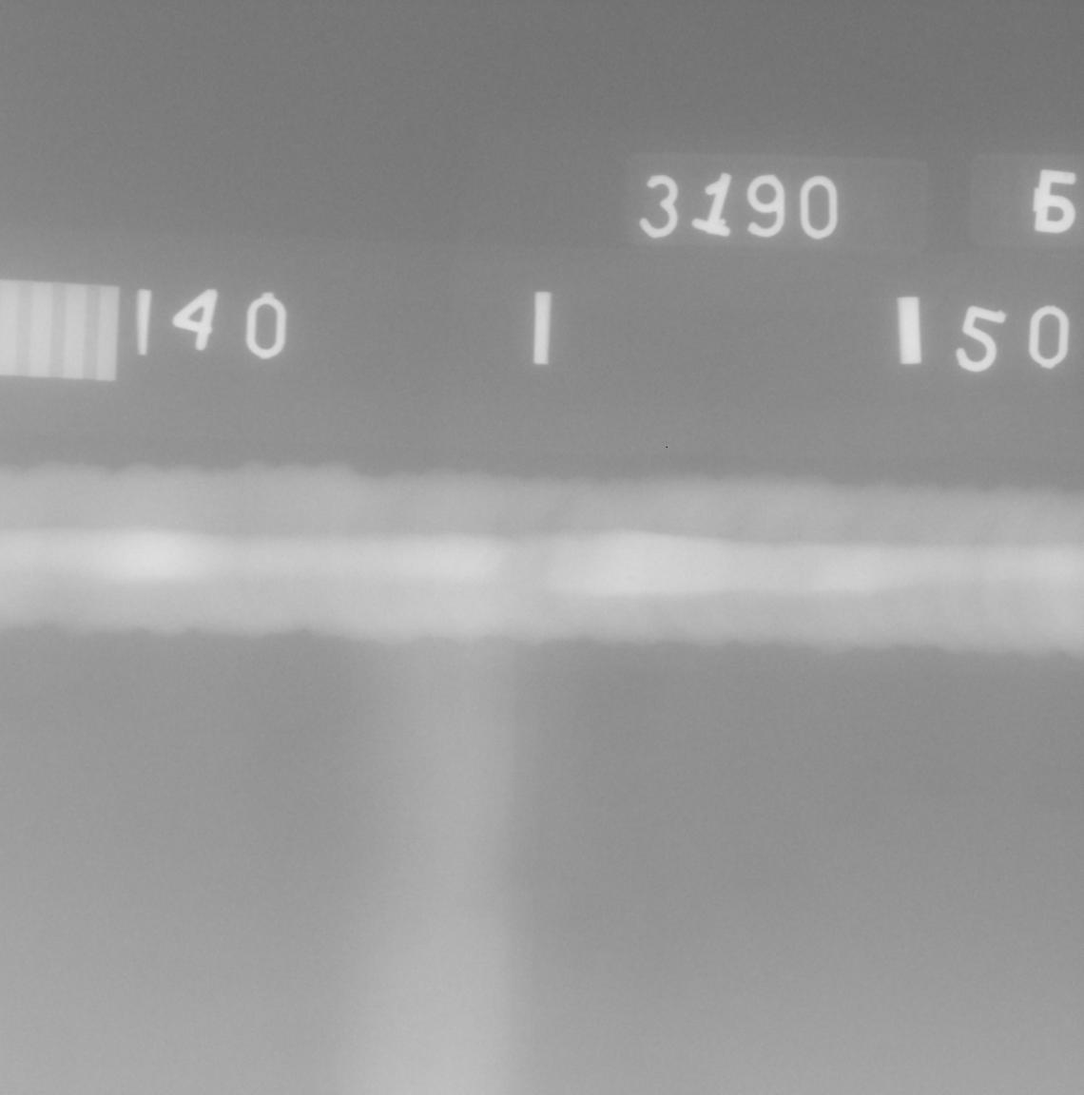Pore/Porosity: (626, 576, 634, 580), (198, 559, 202, 562)
